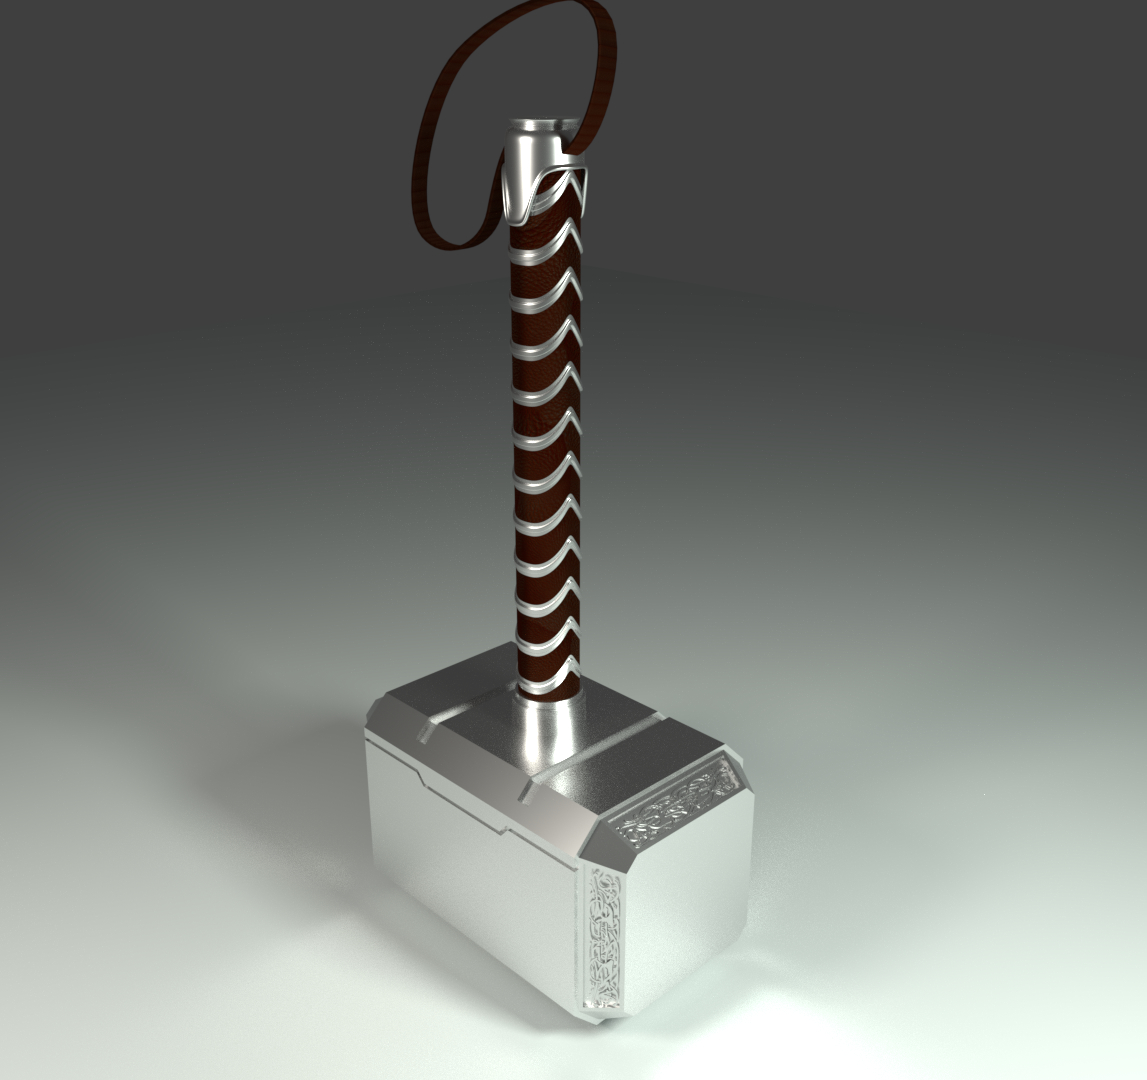THOR Hammer: (393, 110, 779, 1014)
